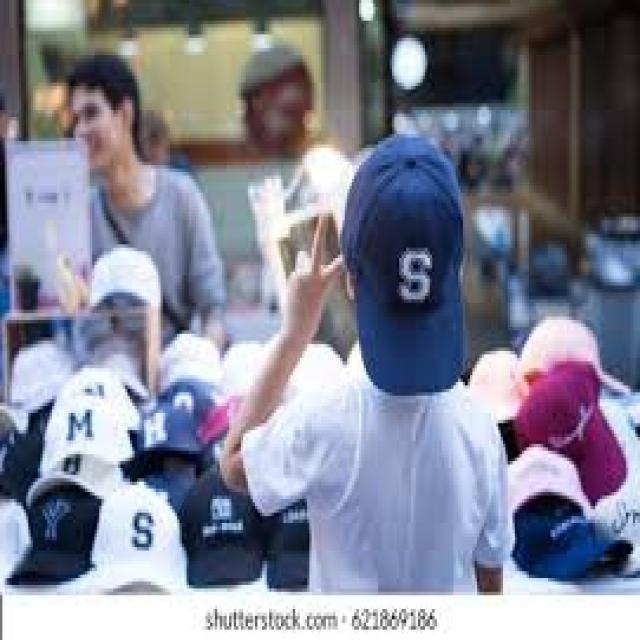cap: (331, 114, 470, 399)
